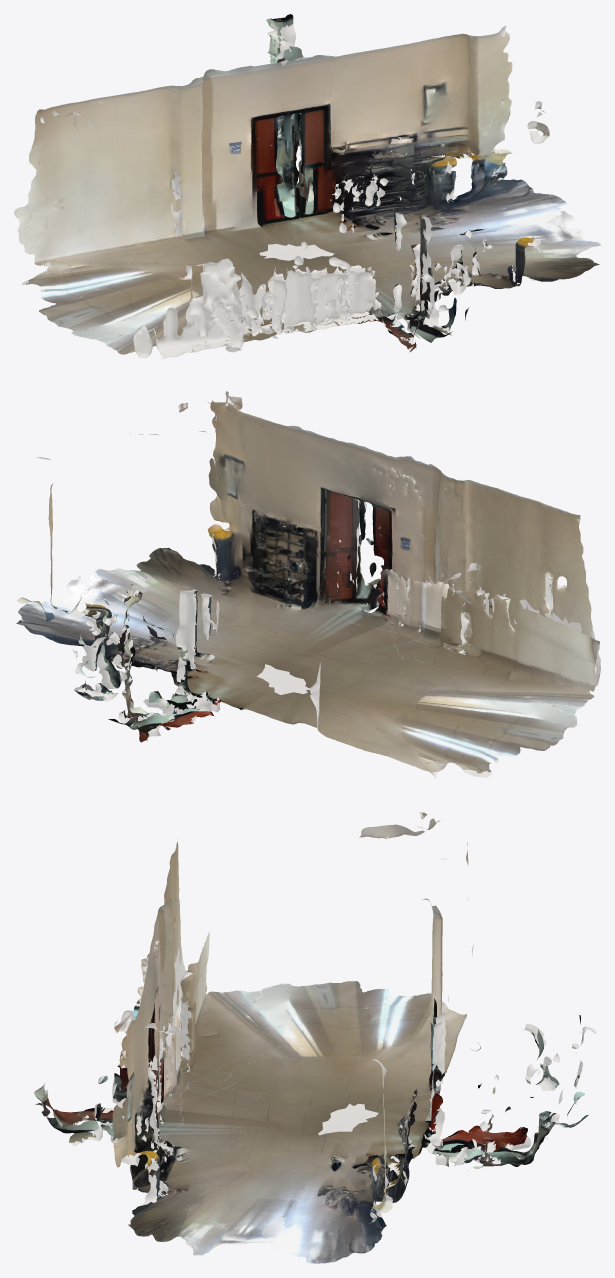
The model's file is MAP_VXFWJMO2VLIY.glb.
3 views of the same model, one above another, from view 1: azimuth 30°, elevation 25°; view 2: azimuth 150°, elevation 25°; view 3: azimuth 270°, elevation 25° (orthographic). The views are drawn at different scales.
Parts seen in each view (by area): view 1: TexturedMesh.obj; view 2: TexturedMesh.obj; view 3: TexturedMesh.obj.
Part boxes in pixels (<box>): TexturedMesh.obj: <box>14,14,600,358</box>; TexturedMesh.obj: <box>16,391,600,778</box>; TexturedMesh.obj: <box>34,812,595,1263</box>.
Size of the model in its own units: 11.04 by 3.84 by 9.72.
1 material, 1 textured.
